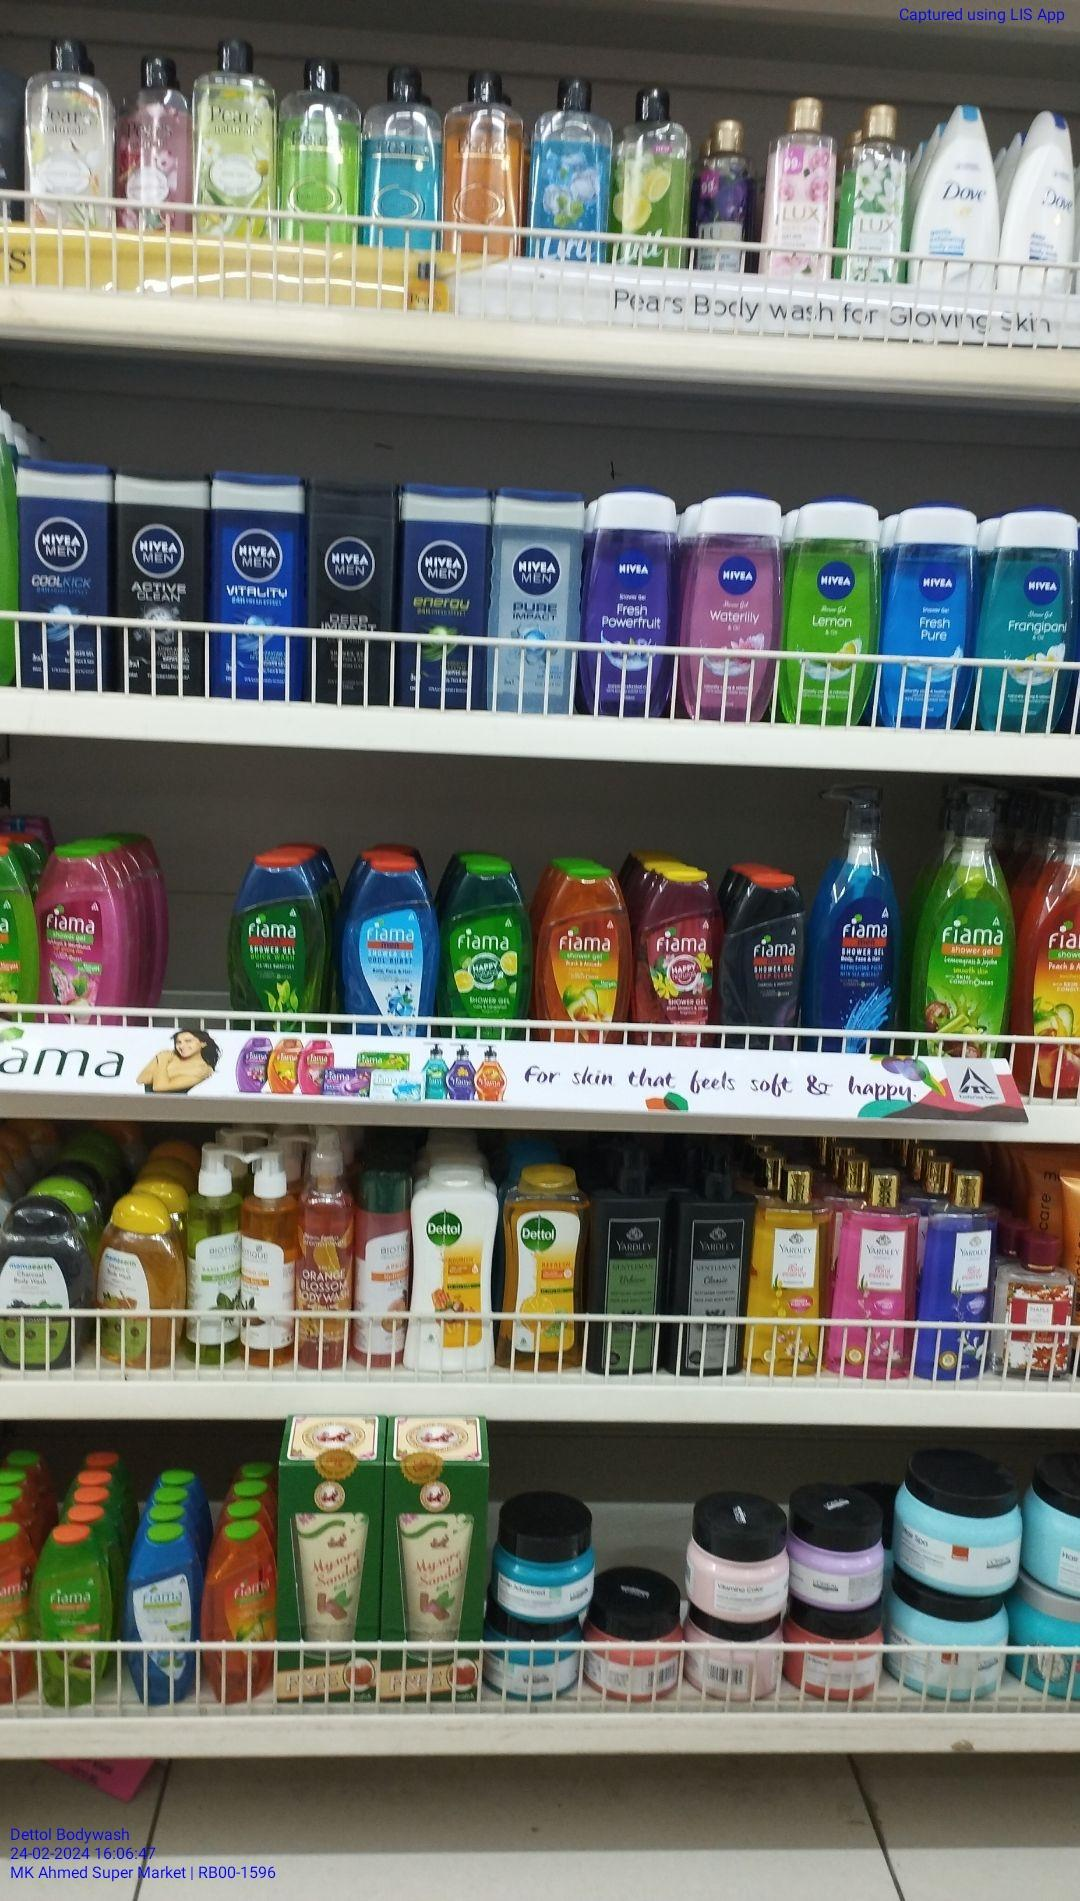Dettol_Bodywash_Refresh: (503, 1166, 584, 1372)
Dettol_Nourish_Body_Wash_250ML: (411, 1170, 494, 1370)
Dove_Deep_Moisture_Body_Wash_250ML: (1004, 107, 1072, 296)
Dove_Gentle_Exfoliating_Body_Wash_250ML: (908, 110, 995, 292)
Fiama_Shower_Gel_Lemongrass_and_Jojoba_250ML: (27, 1533, 108, 1708)
Fiama_Shower_Gel_Patchouli_and_Macadamia_250ML: (43, 849, 128, 1022)
Fiama_Shower_Gel_Peach_and_Avocado_250ML: (537, 862, 628, 1045), (200, 1533, 274, 1704)
Liril_Cooling_Mint_Body_Wash_250ML: (528, 77, 611, 255)
Liril_Lime_and_Tea_Tree_Oil_Body_Wash_250ML: (618, 78, 686, 268)
Lux_Black_Orchid_Scent_and_Juniper_Oil_Body_Wash_245ML: (693, 119, 748, 269)
Lux_Body_Wash_Skin_Detox_Freesia_Scent_and_Alove_Vera_245ML: (842, 108, 900, 283)
Nivea_Shower_Gel_Frangipani_and_Oil_250ML: (979, 513, 1077, 729)
Nivea_Shower_Gel_Fresh_Powerfruit_250ML: (597, 491, 671, 697)
Nivea_Shower_Gel_Lemon_and_Oil_250ML: (786, 496, 881, 723)
Nivea_Shower_Gel_Waterlily_and_Oil_250ML: (684, 497, 778, 721)
Pears_Naturale_Aloe_Vera_Body_Wash_250ML: (193, 39, 273, 238)
Pears_Pure_Glycerin_and_Lemon_Flower_Extracts_Body_Wash_250ML: (281, 63, 358, 248)
Pears_Pure_Glycerin_and_Mint_Extracts_Body_Wash_250ML: (363, 63, 432, 252)
